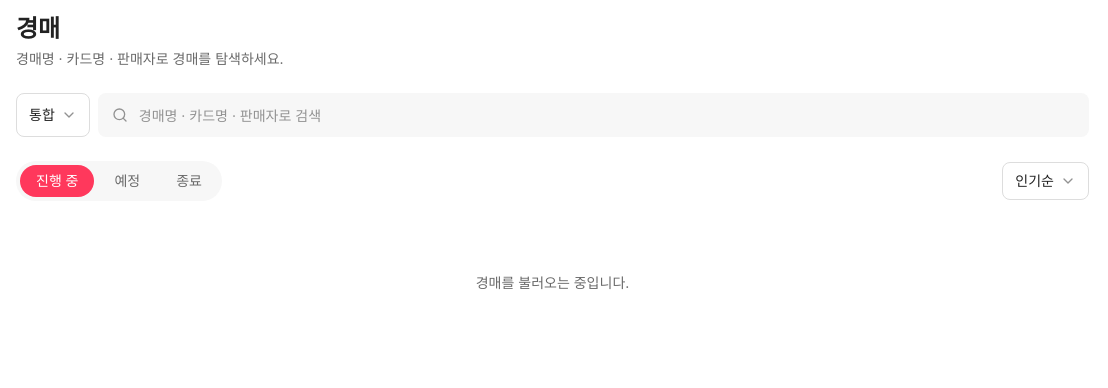
경매 목록 라우트 › 종료 탭에서는 ["종료 임박순","시작 임박순"] 을 제외한 정렬 기준만 보여준다
Press the mouse on the tab "종료" at (189, 181), box [160,165,218,197]
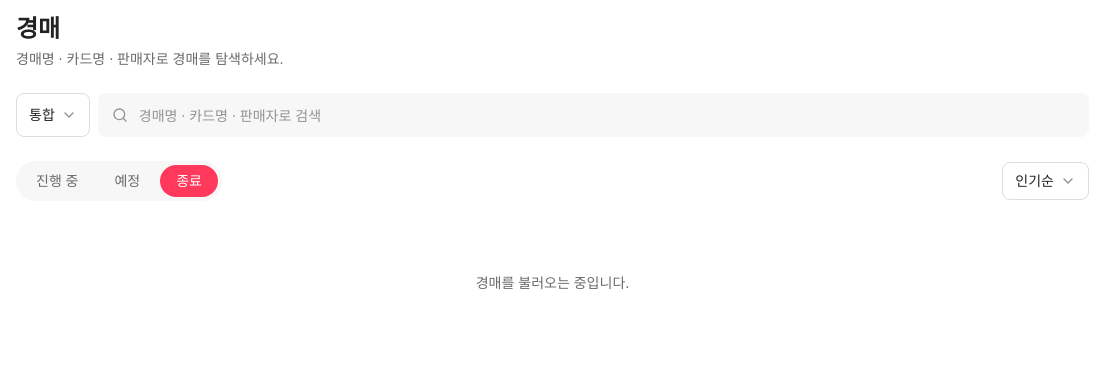
Press Enter in the button "인기순", box [1002,162,1089,200]
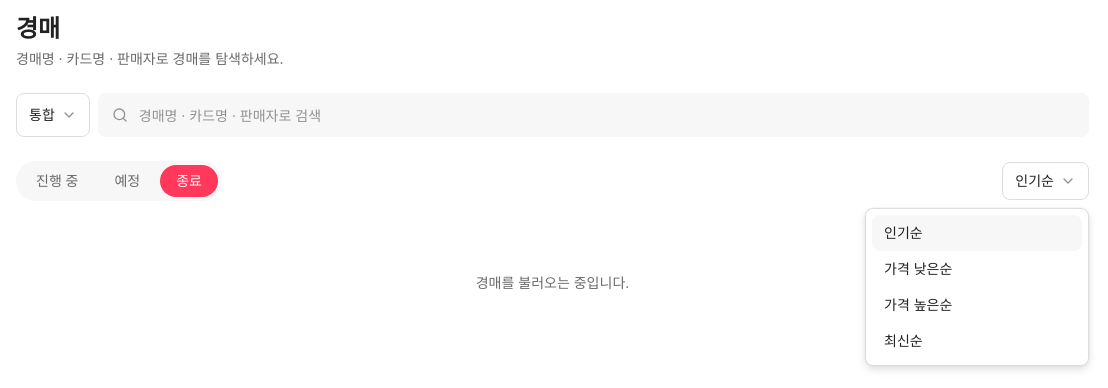
expect the menu item "인기순" is shown: met, box [872,215,1082,251]
expect the menu item "가격 낮은순" is shown: met, box [884,260,952,277]
expect the menu item "가격 높은순" is shown: met, box [884,296,952,313]
